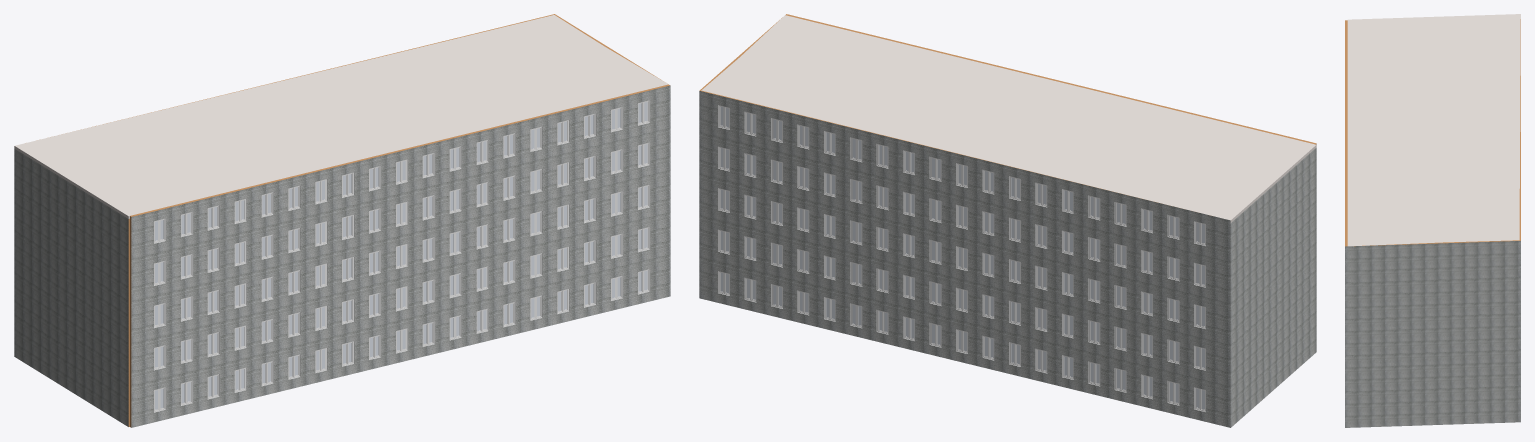
The model's file is home.glb.
3 renders of one model, left to right at view 1: azimuth 30°, elevation 25°; view 2: azimuth 150°, elevation 25°; view 3: azimuth 270°, elevation 25°, orthographic. The views are drawn at different scales.
Parts seen in each view (by area): view 1: component6, component7, component1, component3, component2, component4, component5; view 2: component6, component7, component1, component3, component2, component4; view 3: component7, component6, component4.
Boxes of the visible parts, box(x1,y1,x2,y2) form: component6: box(14, 85, 670, 427); component7: box(14, 15, 668, 218); component1: box(154, 100, 649, 411); component3: box(155, 102, 647, 409); component2: box(154, 100, 649, 412); component4: box(81, 14, 669, 216); component5: box(128, 216, 131, 427); component6: box(699, 91, 1316, 427); component7: box(701, 15, 1316, 222); component1: box(718, 105, 1205, 411); component3: box(720, 107, 1204, 409); component2: box(718, 105, 1205, 411); component4: box(699, 14, 1316, 202); component7: box(1347, 14, 1520, 246); component6: box(1345, 241, 1520, 427); component4: box(1345, 19, 1520, 246).
Bounding box in the file's own units: 41.21 × 15 × 13.16.
Materials: 7 (1 with a texture image).
